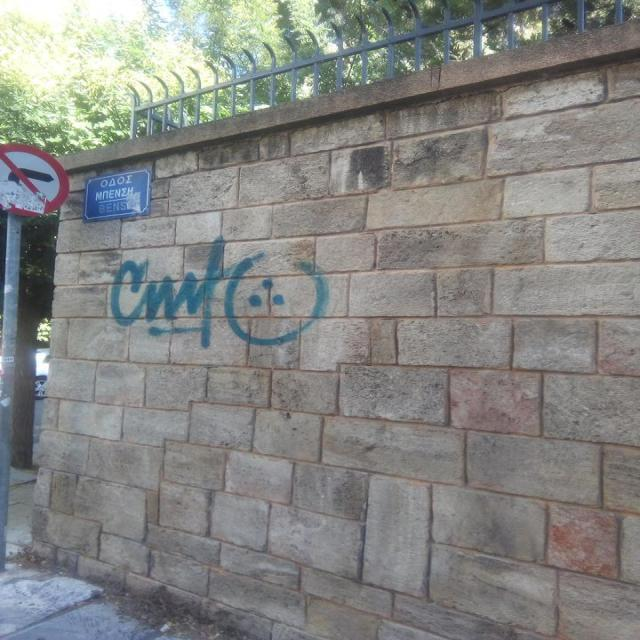nonspitting: (112, 238, 330, 352)
